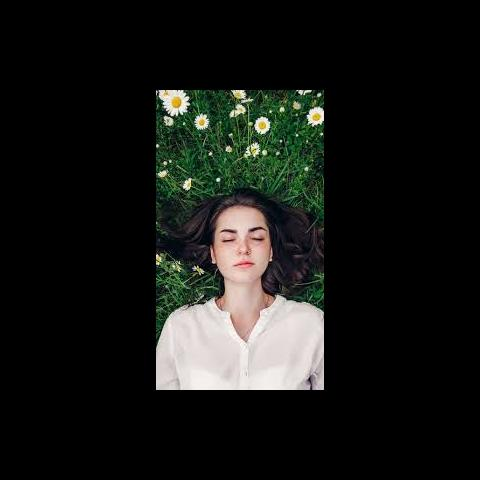closed: (212, 222, 272, 250)
